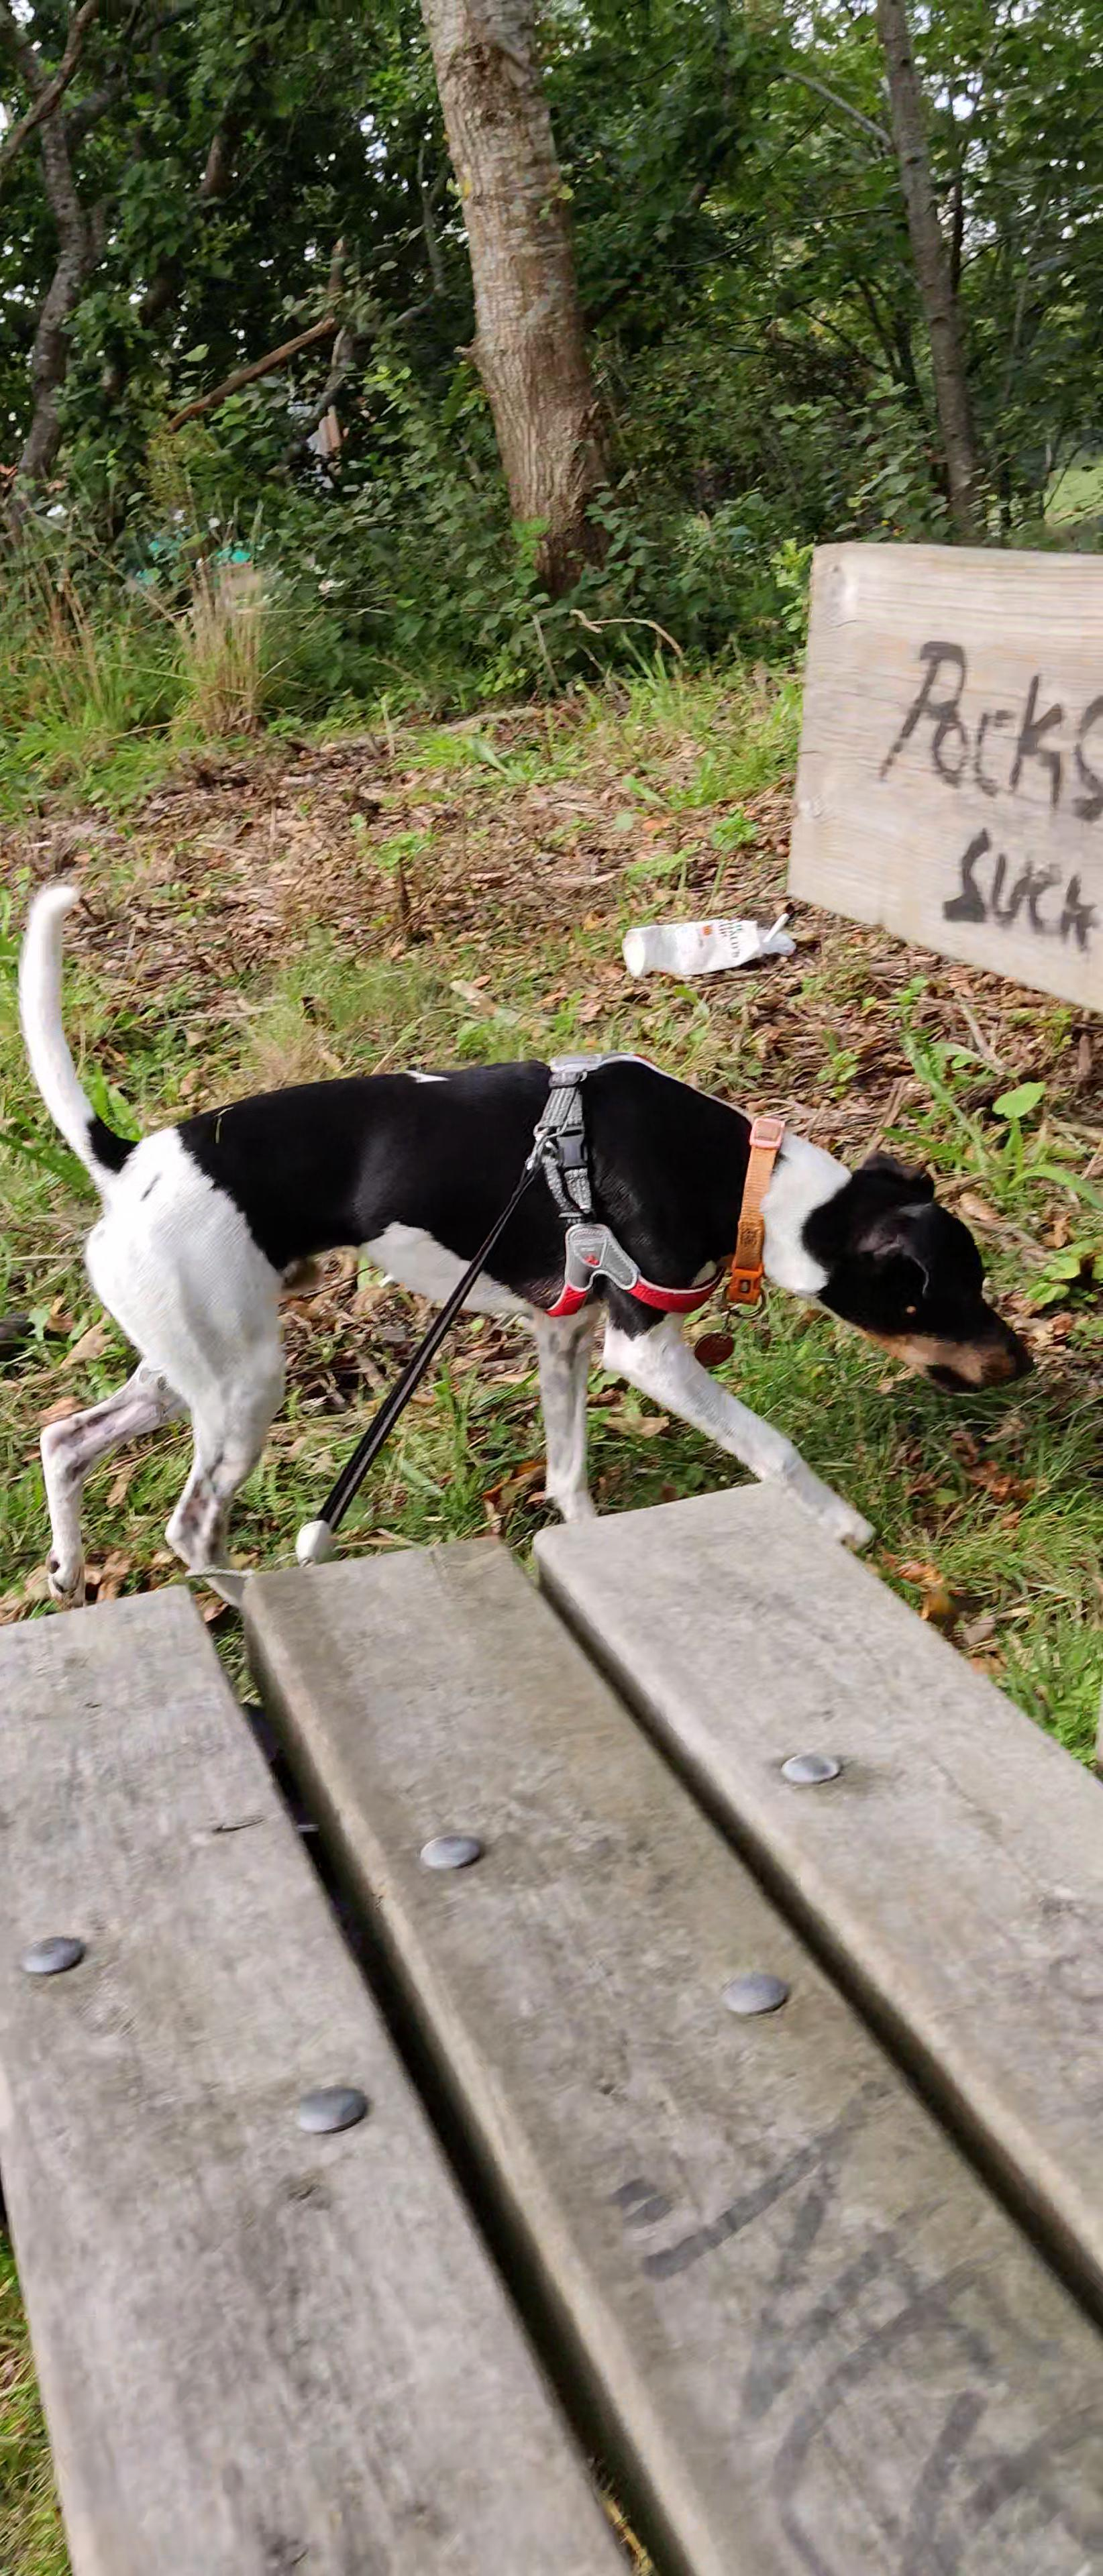Dog: (15, 877, 1049, 1610)
